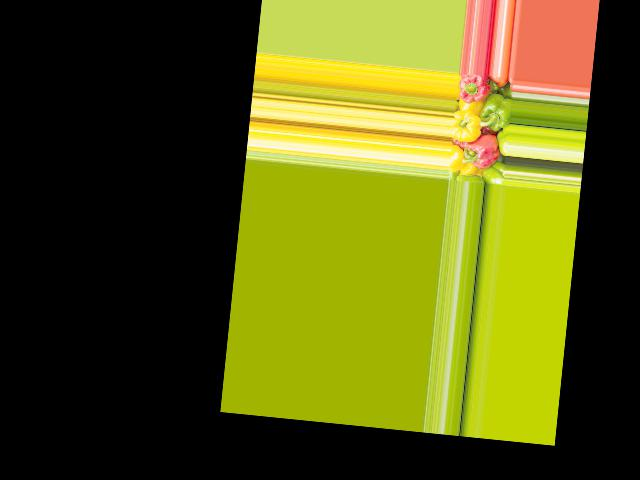bell_pepper: (456, 73, 492, 109)
